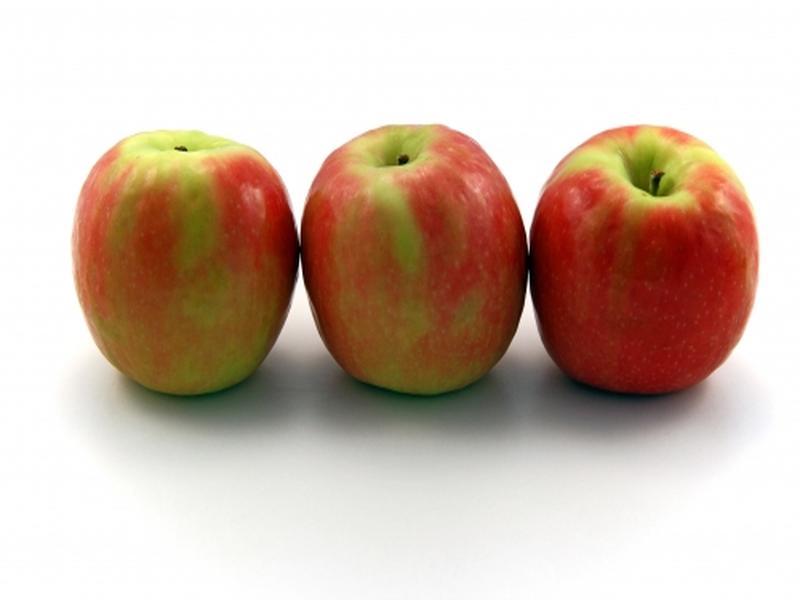apple: (529, 108, 766, 403), (62, 113, 299, 398), (300, 115, 533, 401)
